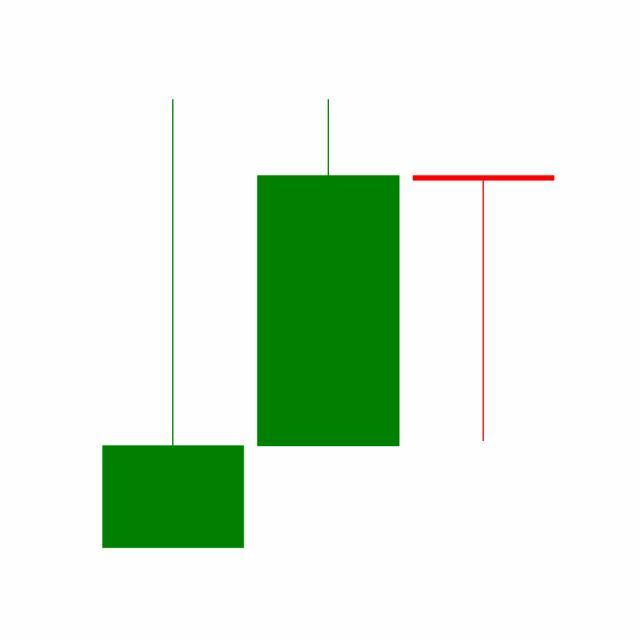Dragonfly Doji: (406, 173, 562, 445)
